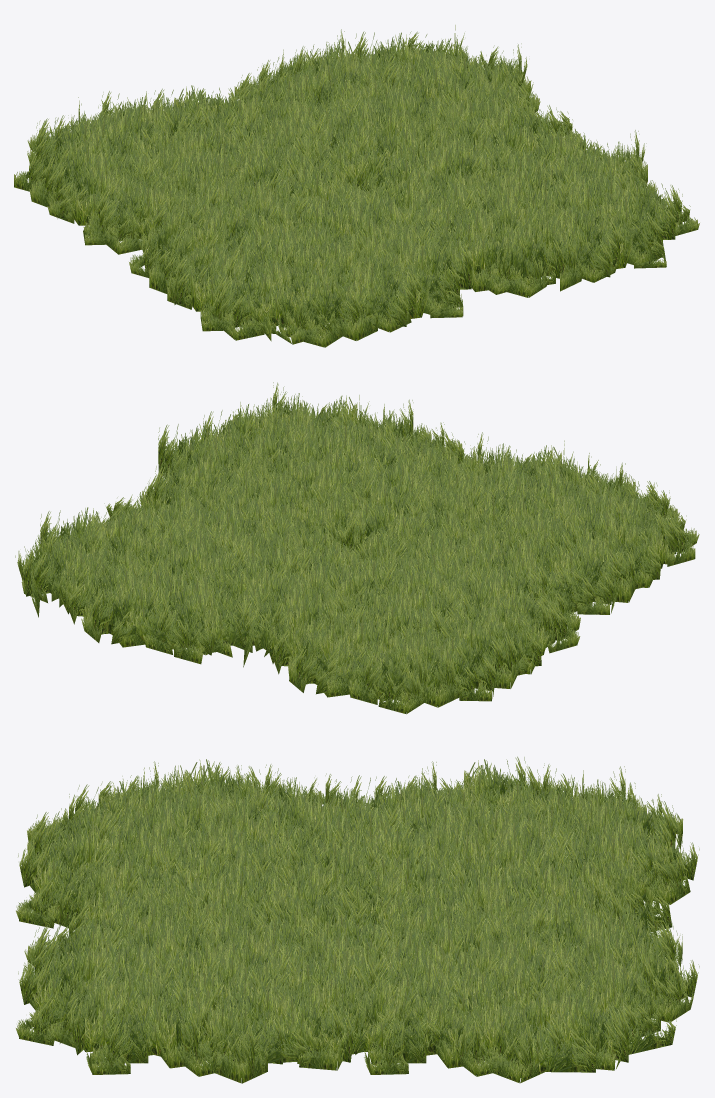
The model's file is grass_patch.glb.
The picture shows the model from 3 angles, top to bottom: view 1: azimuth 30°, elevation 25°; view 2: azimuth 150°, elevation 25°; view 3: azimuth 270°, elevation 25°; orthographic projection. The views are drawn at different scales.
Parts seen in each view (by area): view 1: grass_patch; view 2: grass_patch; view 3: grass_patch.
Boxes of the visible parts, box(x1,y1,x2,y2) form: grass_patch: box(14, 25, 699, 347); grass_patch: box(15, 382, 699, 714); grass_patch: box(16, 756, 699, 1083).
Bounding box in the file's own units: 2.87 × 0.3061 × 2.92.
Materials: 1 (1 with a texture image).
